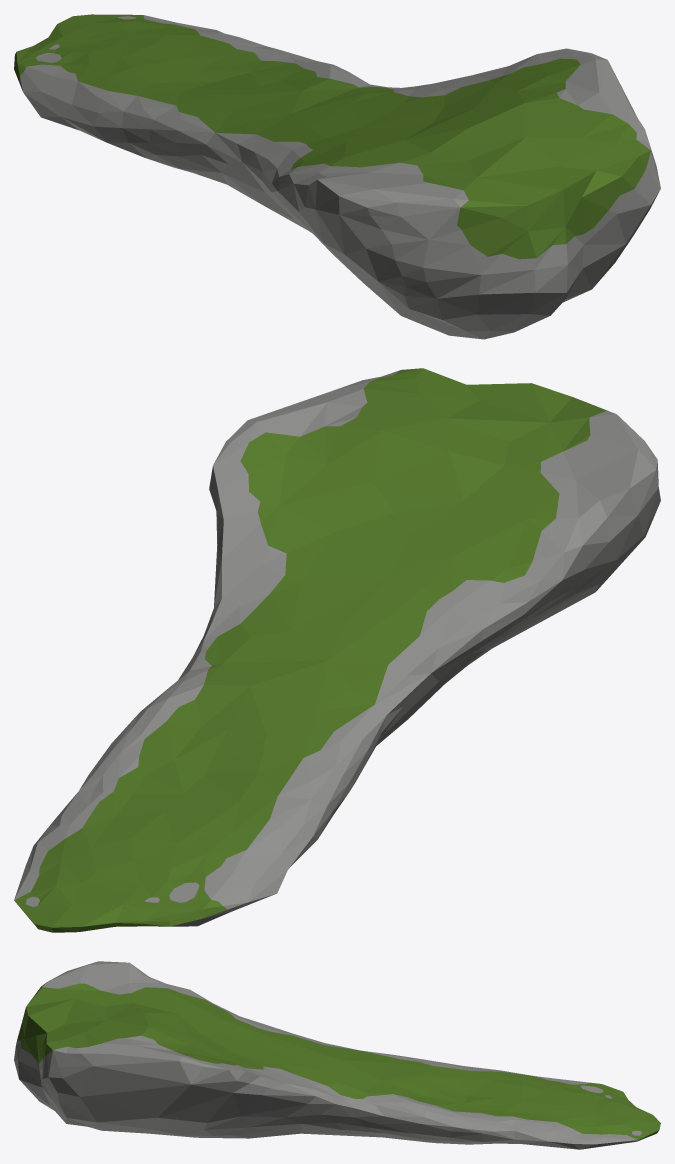
Rendered from Cavern_FloorGrass_Narrow_Ramp_Lrg-01.fbx.
3 views of the same model, one above another, from view 1: azimuth 30°, elevation 25°; view 2: azimuth 150°, elevation 25°; view 3: azimuth 270°, elevation 25° (orthographic). The views are drawn at different scales.
Parts seen in each view (by area): view 1: Cavern_FloorGrass_Narrow_Ramp_Lrg-01; view 2: Cavern_FloorGrass_Narrow_Ramp_Lrg-01; view 3: Cavern_FloorGrass_Narrow_Ramp_Lrg-01.
Boxes of the visible parts, x1,y1,x2,y2 form: Cavern_FloorGrass_Narrow_Ramp_Lrg-01: (14, 14, 660, 339); Cavern_FloorGrass_Narrow_Ramp_Lrg-01: (14, 368, 660, 932); Cavern_FloorGrass_Narrow_Ramp_Lrg-01: (14, 961, 660, 1149).
Bounding box in the file's own units: 988 × 549 × 2412.
Materials: 1 (1 with a texture image).
